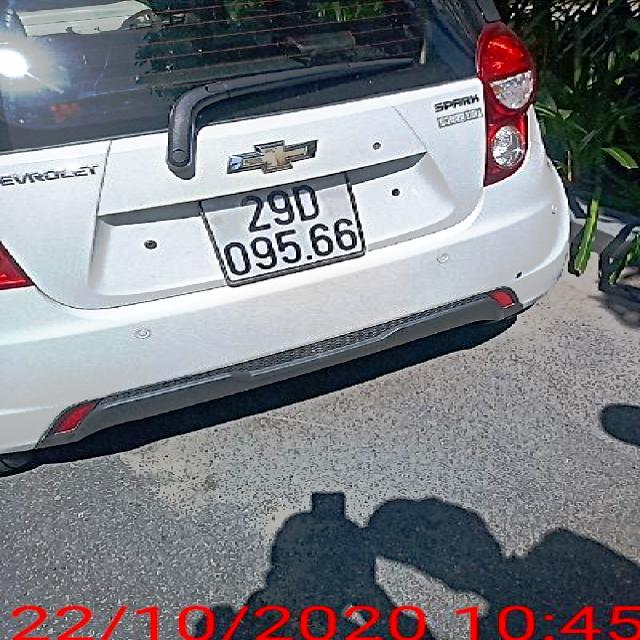license_plate: (201, 173, 365, 288)
